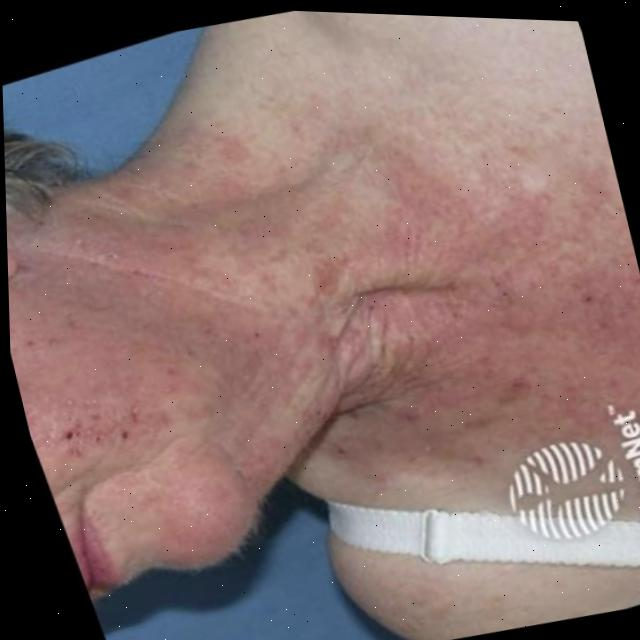Eczema: (290, 128, 640, 497)
